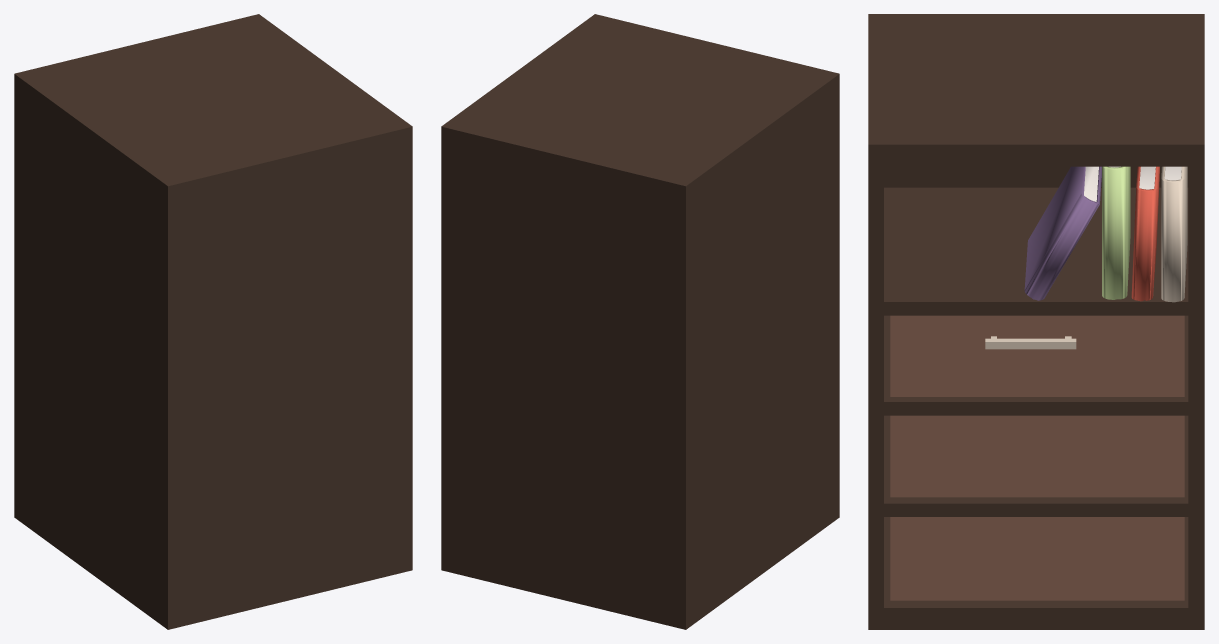
File: Nightstand.fbx
3 views of the same model, side by side, from view 1: azimuth 30°, elevation 25°; view 2: azimuth 150°, elevation 25°; view 3: azimuth 270°, elevation 25° (orthographic). The views are drawn at different scales.
Parts seen in each view (by area): view 1: NightStand; view 2: NightStand; view 3: NightStand.
Part boxes in pixels (x1,y1,x2,y2): NightStand: (14, 14, 412, 629); NightStand: (441, 14, 839, 629); NightStand: (868, 14, 1204, 629).
Bounding box in the file's own units: 279 × 476 × 300.
